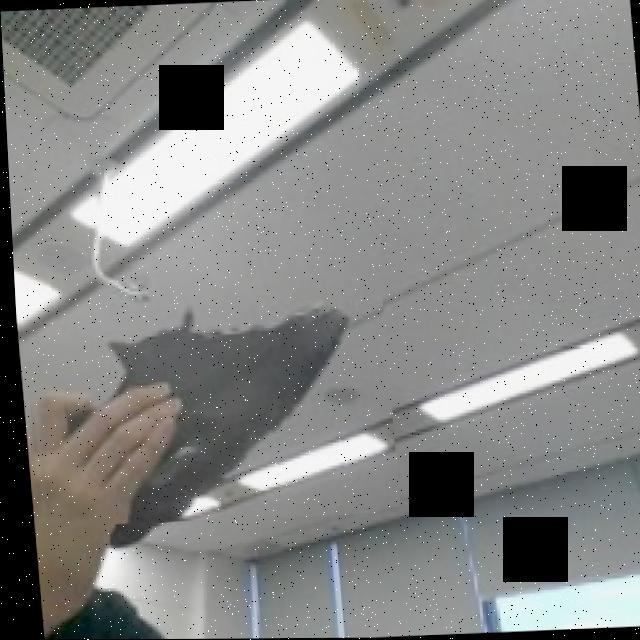shoe: (10, 254, 395, 526)
